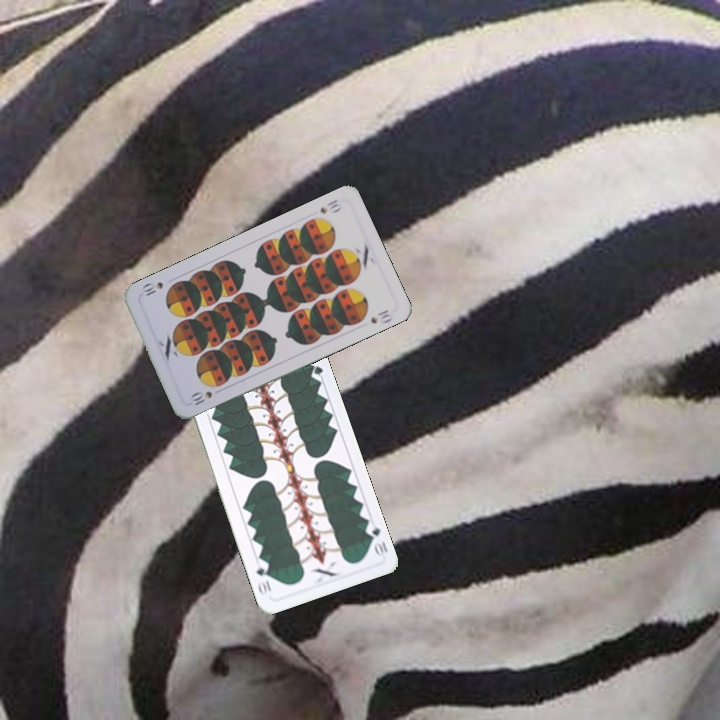G10: (361, 519, 391, 560)
S10: (186, 387, 215, 409), (316, 195, 344, 216)
